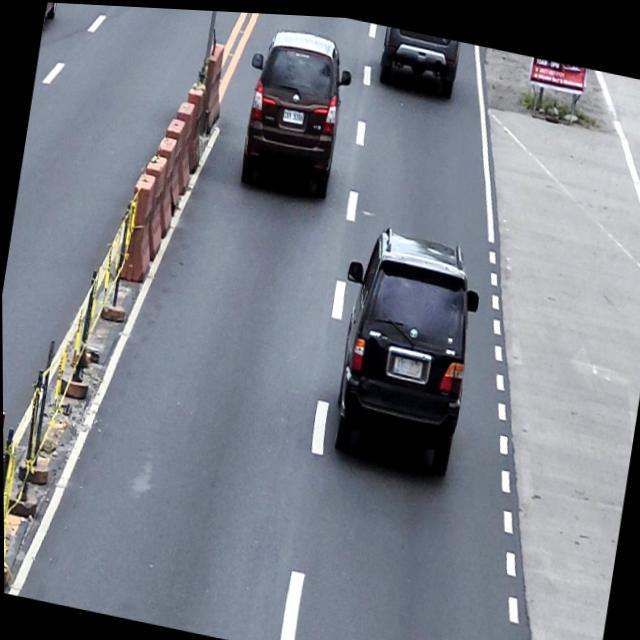Car: (318, 214, 489, 476), (232, 18, 357, 199), (376, 22, 462, 101)
License-Plate: (391, 350, 424, 375), (281, 103, 306, 123)
